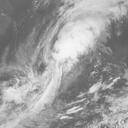cyclone: (36, 8, 107, 73)
